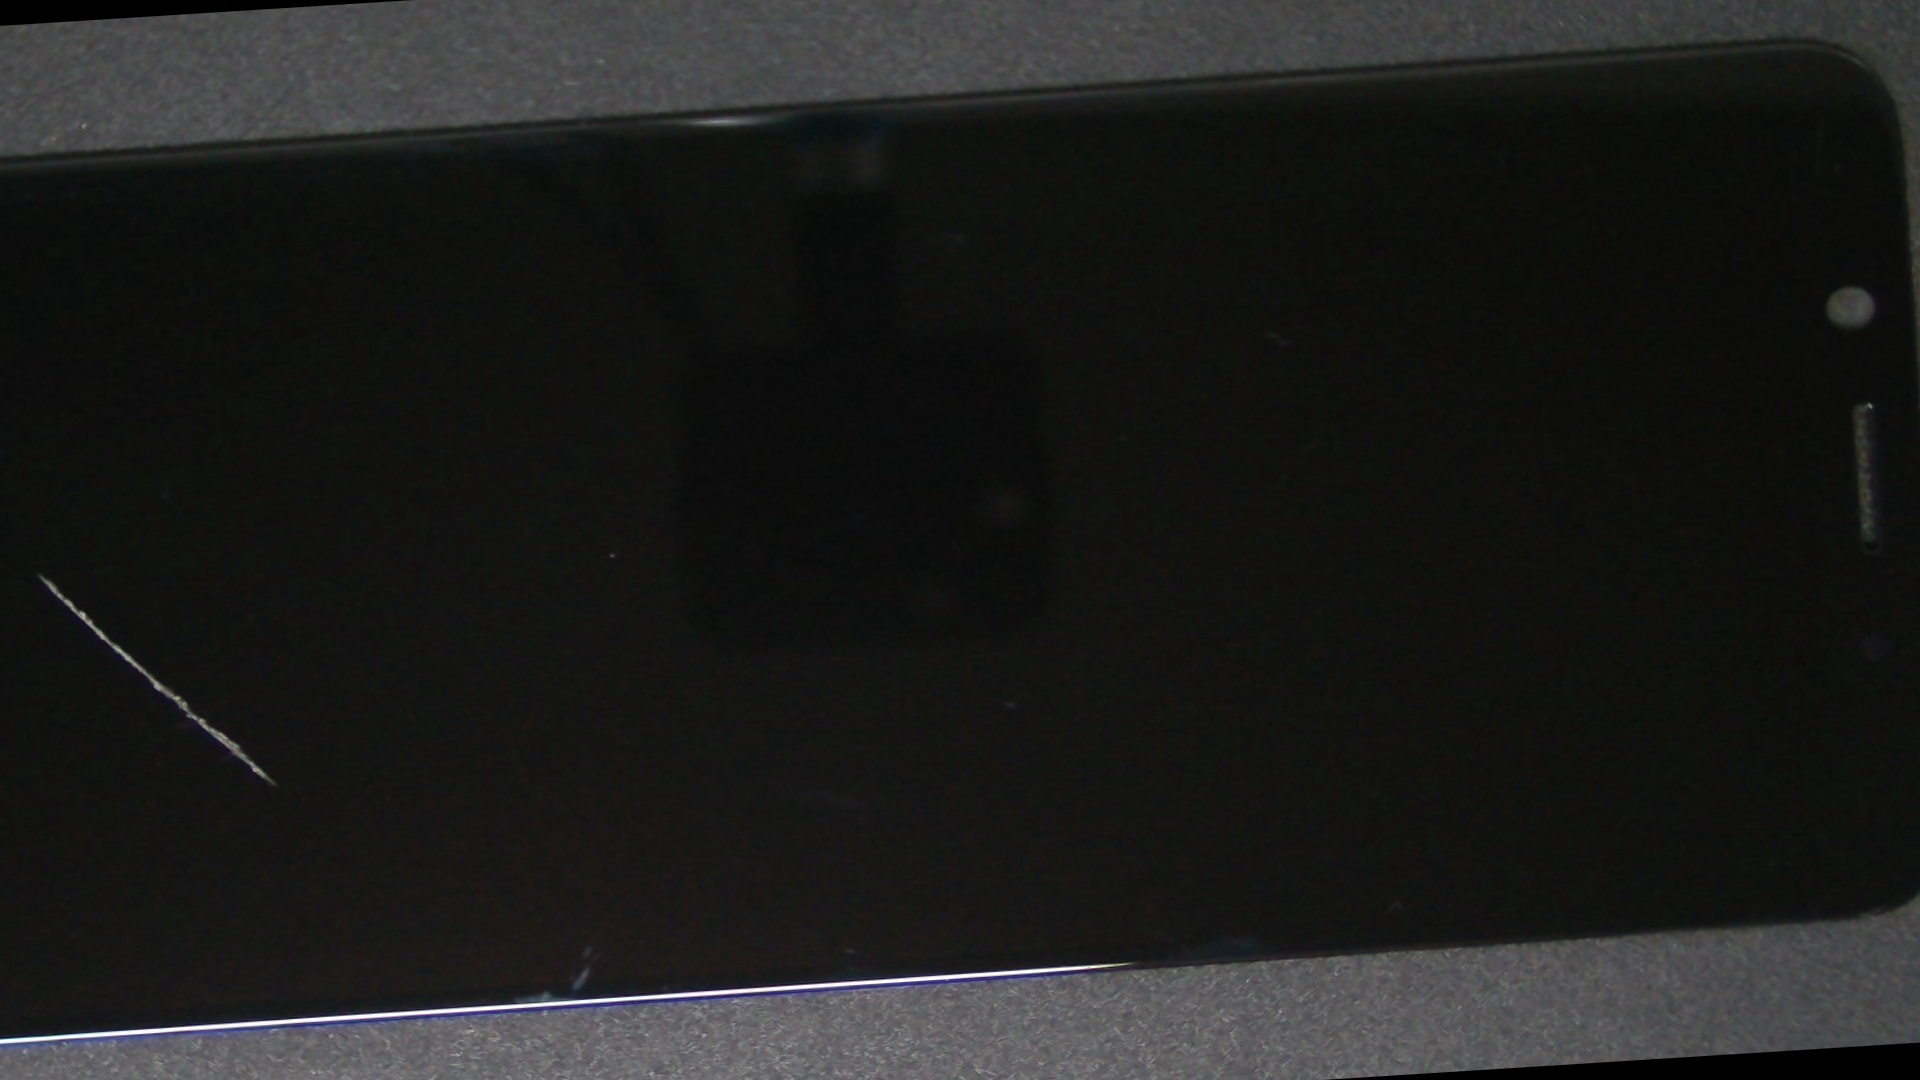oil: (0, 289, 215, 857)
